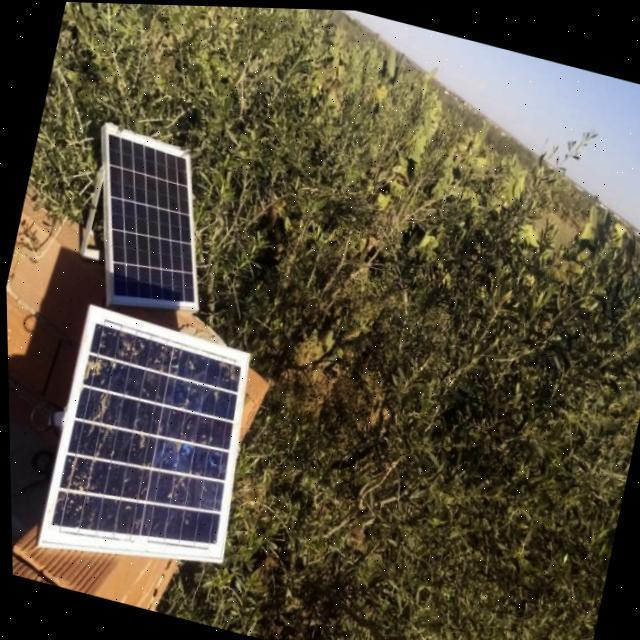Normal Solar Panel: (65, 124, 229, 324)
